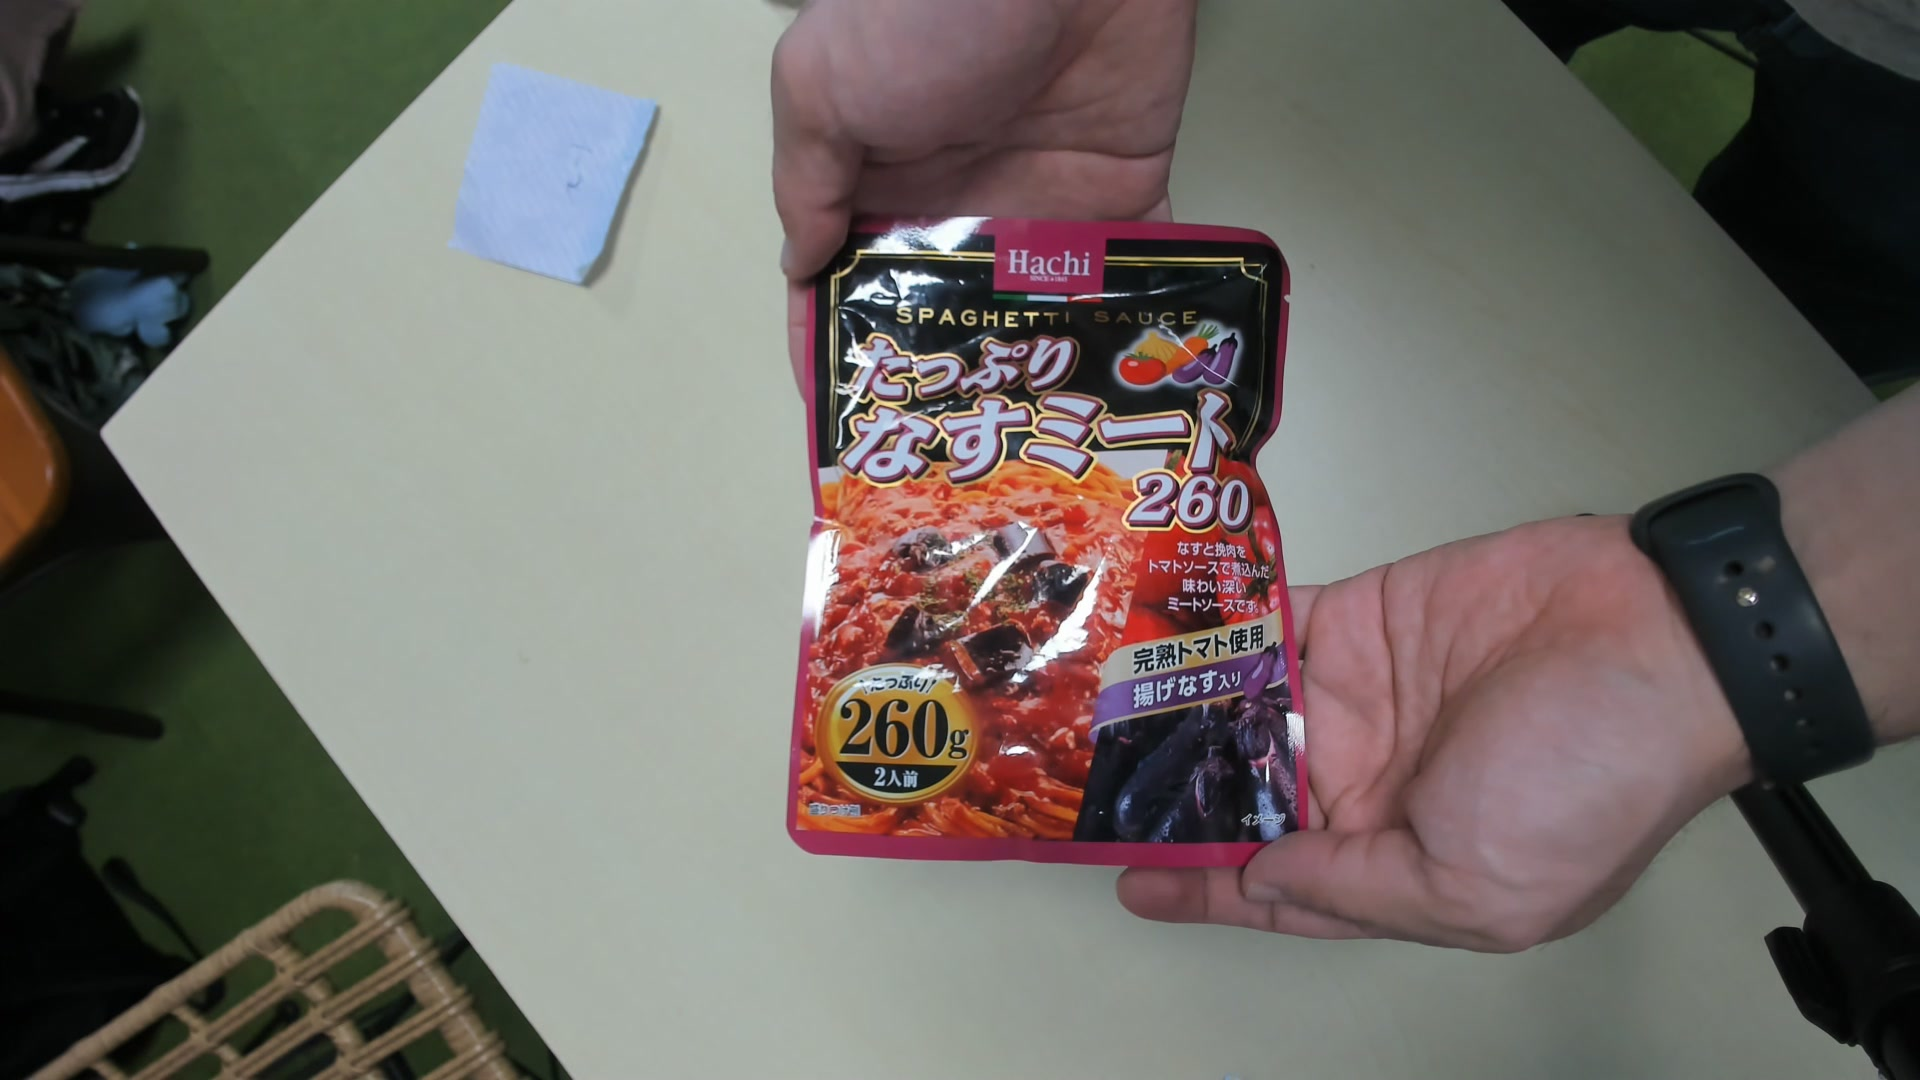PastaSauce_200-299g_NonHalal_NonHealthy: (800, 228, 1304, 872)
